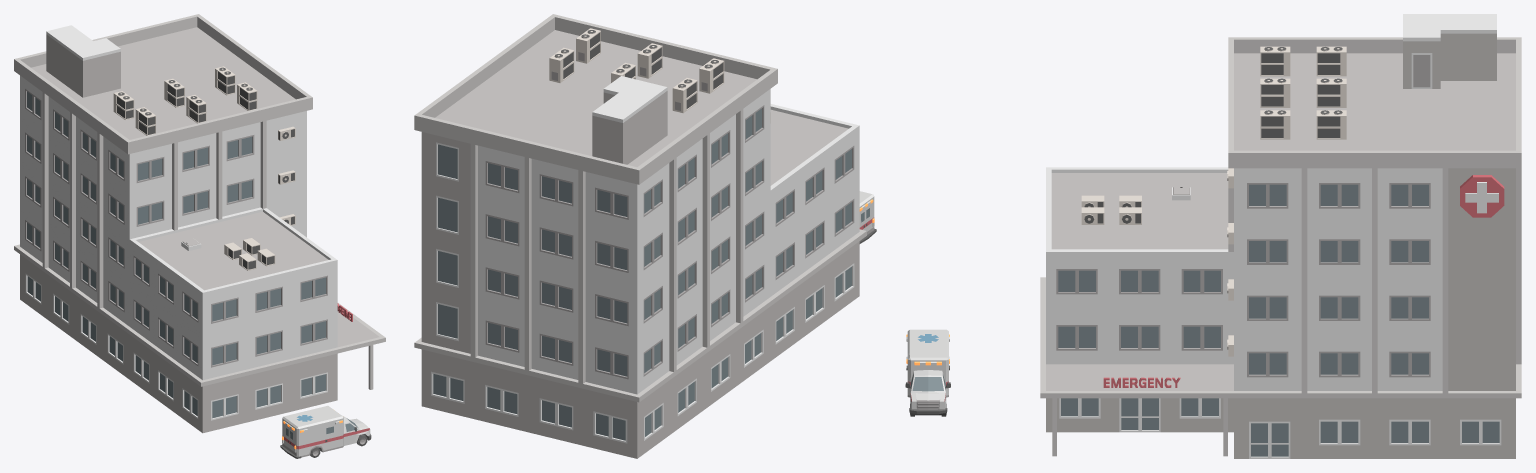
Rendered from Hospital.fbx.
The picture shows the model from 3 angles, left to right: view 1: azimuth 30°, elevation 25°; view 2: azimuth 150°, elevation 25°; view 3: azimuth 270°, elevation 25°; orthographic projection. The views are drawn at different scales.
Parts seen in each view (by area): view 1: building-hospital (1), car-ambulance-pickup-base; view 2: building-hospital (1), car-ambulance-pickup-base; view 3: building-hospital (1), car-ambulance-pickup-base.
Part boxes in pixels (box(x1,y1,x2,y2)): building-hospital (1): box(14, 14, 385, 433); car-ambulance-pickup-base: box(280, 405, 371, 458); building-hospital (1): box(414, 14, 866, 458); car-ambulance-pickup-base: box(859, 191, 876, 243); building-hospital (1): box(1040, 14, 1521, 458); car-ambulance-pickup-base: box(905, 329, 950, 415).
Size of the model in its own units: 1470 by 2034 by 3278.
